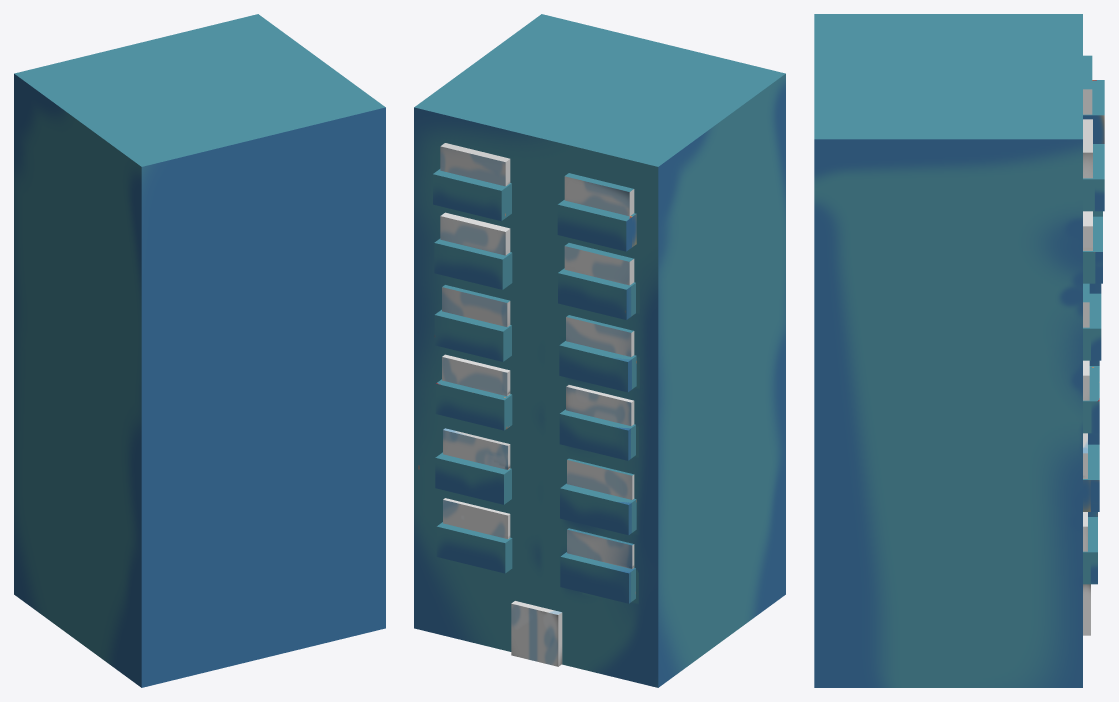
The model's file is predio1becoazul.fbx.
3 views of the same model, side by side, from view 1: azimuth 30°, elevation 25°; view 2: azimuth 150°, elevation 25°; view 3: azimuth 270°, elevation 25° (orthographic). The views are drawn at different scales.
Visible parts, largest first — view 1: Cube; view 2: Cube; view 3: Cube.
Part boxes in pixels (left/top/right/bottom): Cube: left=14, top=14, right=385, bottom=687; Cube: left=414, top=14, right=785, bottom=687; Cube: left=814, top=14, right=1104, bottom=687.
Size of the model in its own units: 565 by 1153 by 553.
